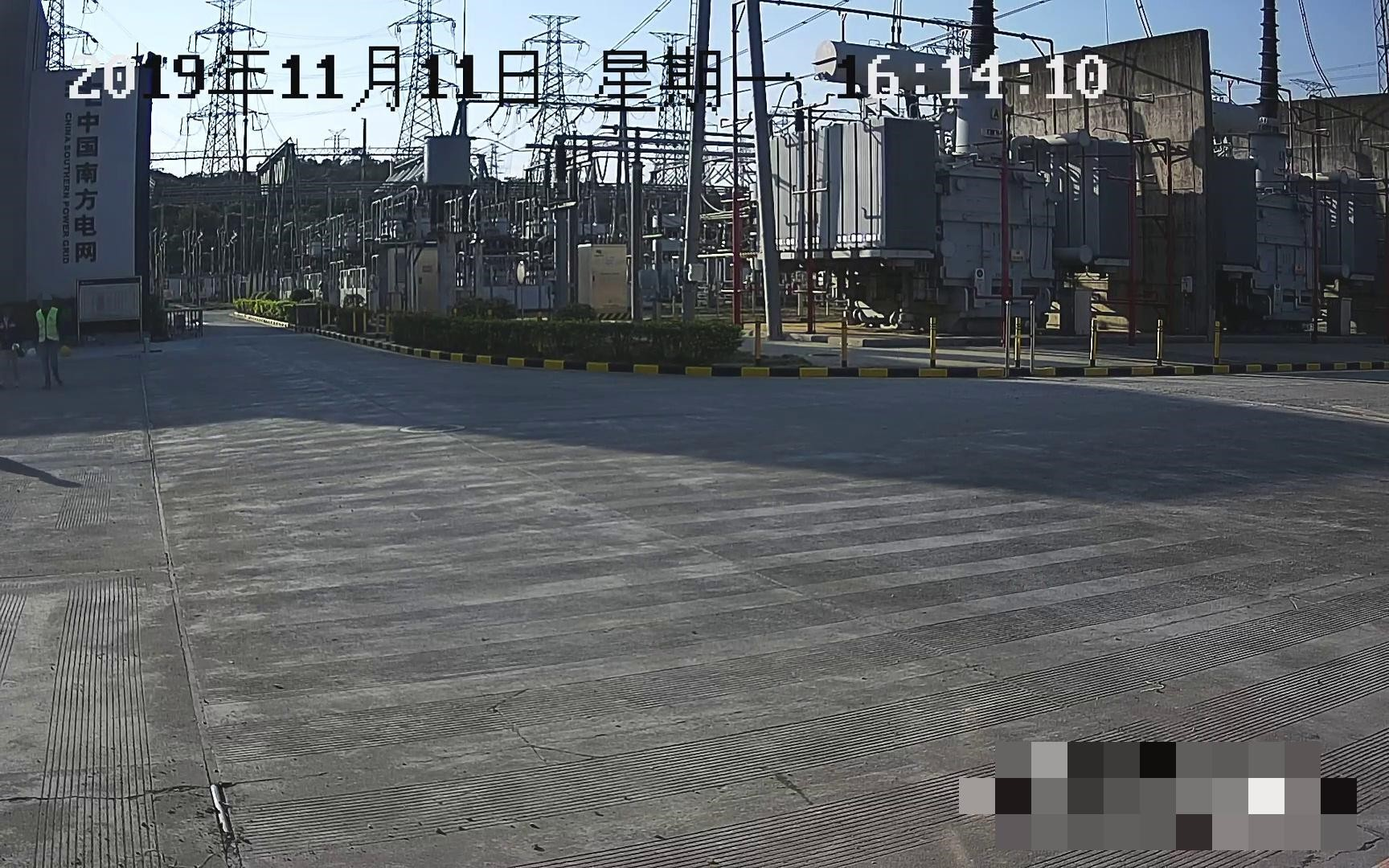head: (35, 293, 54, 311)
person: (26, 290, 69, 390)
